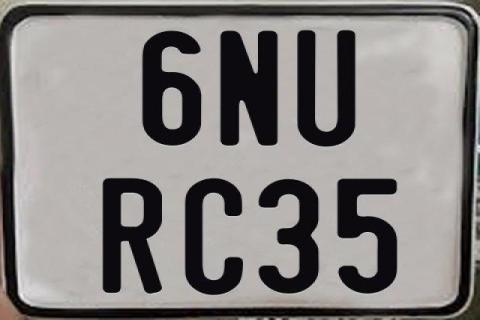0: (140, 29, 204, 149), (334, 178, 398, 298), (257, 177, 320, 296)
C: (183, 178, 244, 300)
N: (218, 28, 278, 143)
R: (103, 177, 165, 293)
U: (297, 30, 360, 148)
